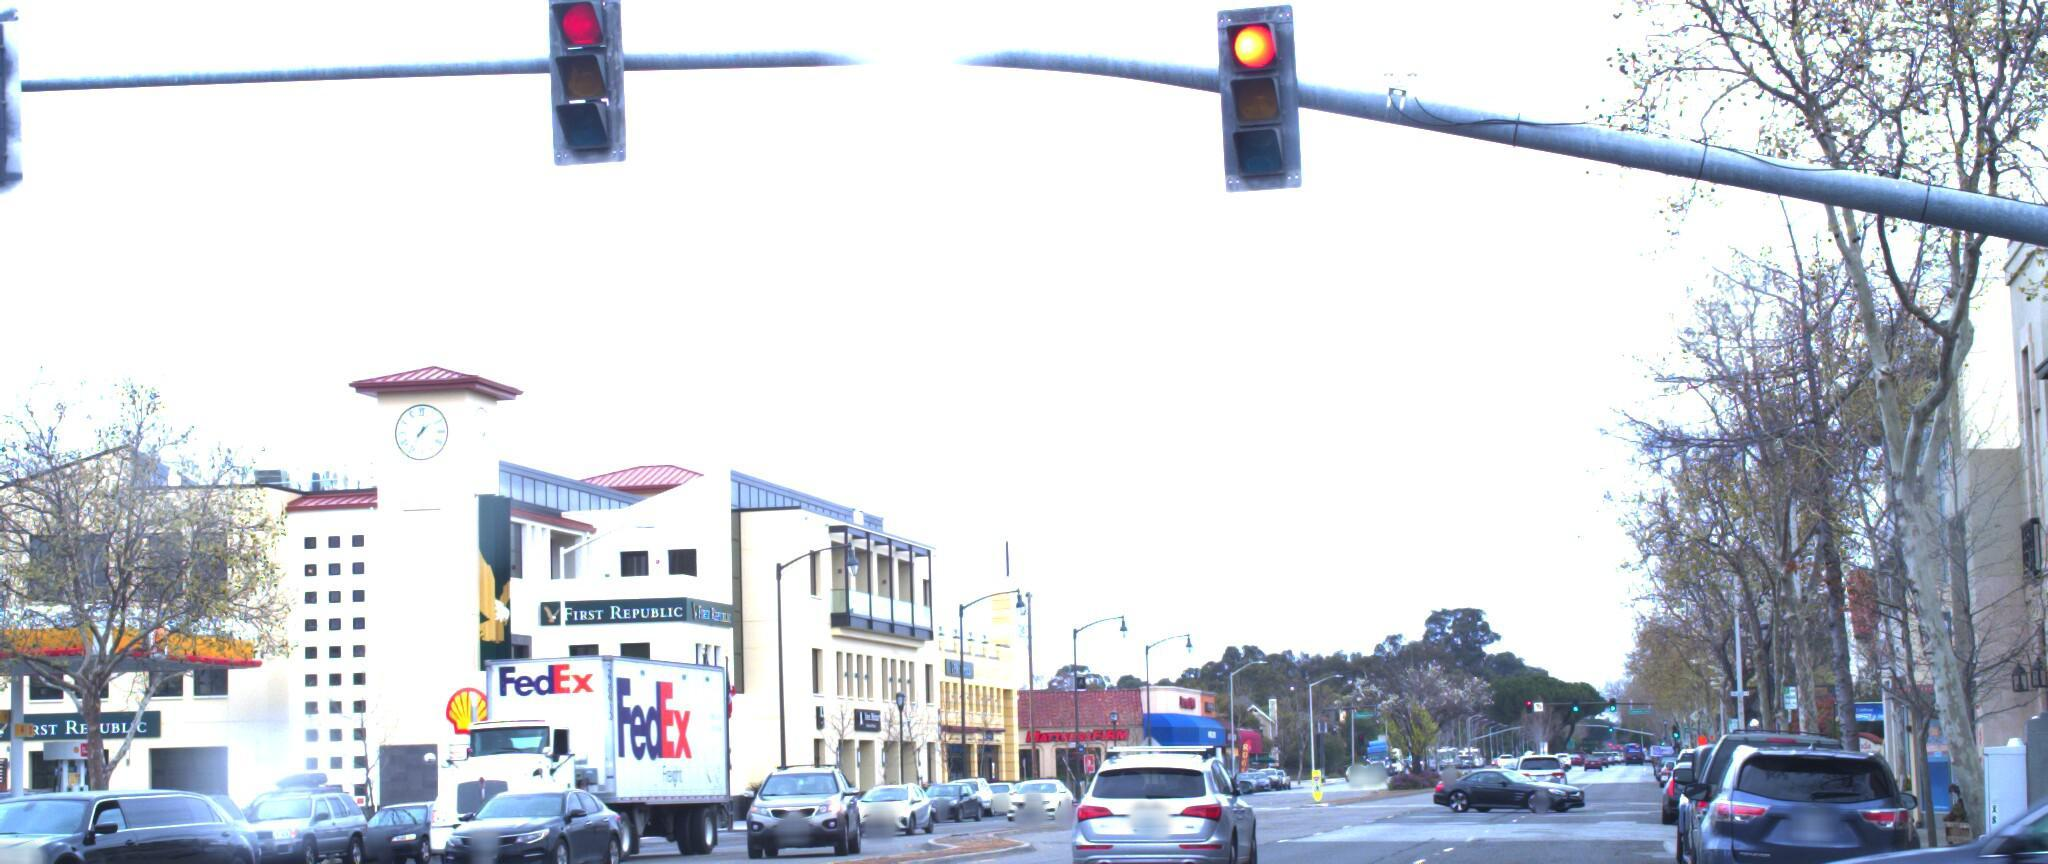car: (1731, 689, 2048, 864), (1669, 733, 1928, 864), (1654, 718, 1842, 864), (1071, 750, 1266, 864), (440, 764, 641, 864), (0, 797, 263, 864), (747, 761, 880, 861), (223, 805, 387, 864), (336, 808, 481, 864)
truck: (419, 645, 739, 864)
